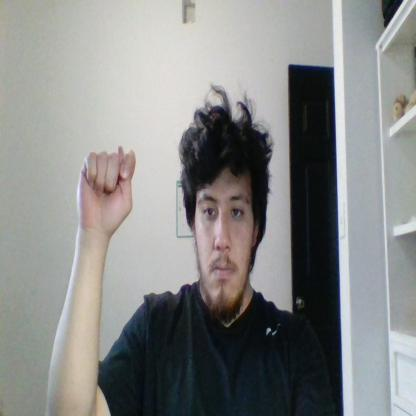T: (76, 145, 136, 231)
